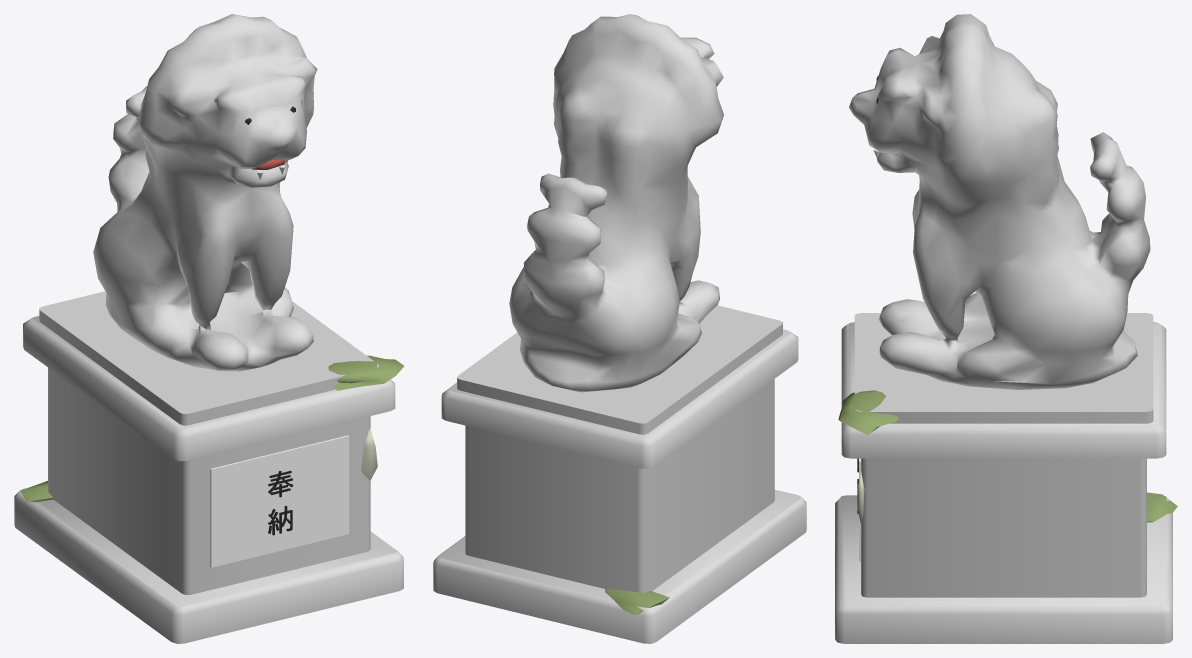
File: komainu.glb
The picture shows the model from 3 angles, left to right: view 1: azimuth 30°, elevation 25°; view 2: azimuth 150°, elevation 25°; view 3: azimuth 270°, elevation 25°; orthographic projection. The views are drawn at different scales.
Visible parts, largest first — view 1: komainu_body; view 2: komainu_body; view 3: komainu_body.
Boxes of the visible parts, x1,y1,x2,y2 form: komainu_body: [14, 14, 404, 643]; komainu_body: [433, 14, 806, 643]; komainu_body: [835, 14, 1177, 643].
Size of what is drawn, in the model's own units: 0.8727 by 1.92 by 1.06.
